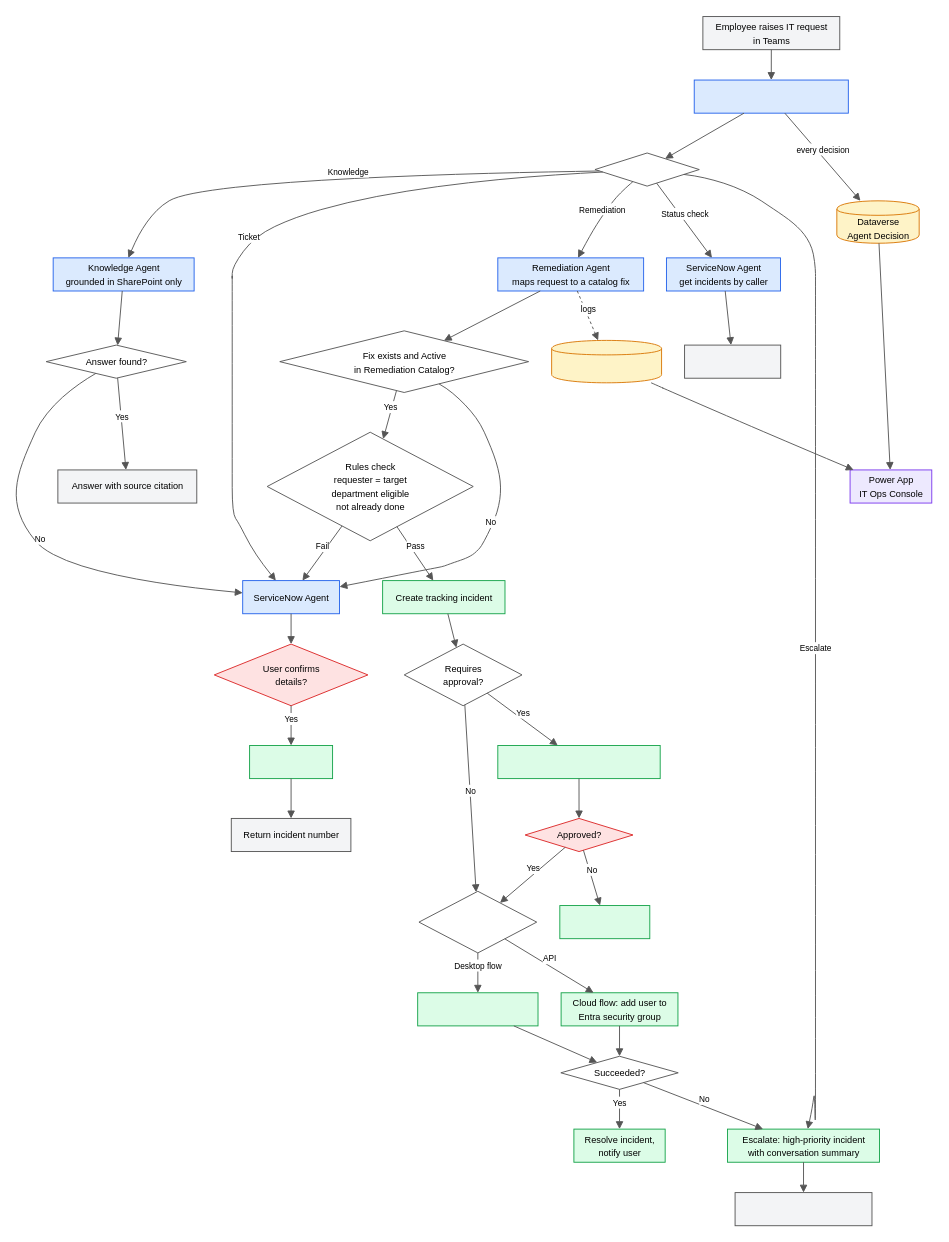
Some shapes in this 949 by 1242 pixel diagram are drawn without their labels. The shapes that lost their labels are listed below. From the top down, each one's centre as x and y in pixels, then its label:
[770,96]: Triage Agent classifies into 1 of 5 categories
[646,169]: Category?
[606,361]: Dataverse Remediation Request
[732,361]: Summarise status
[291,762]: Create incident
[578,762]: Approval to requester's manager (looked up in Entra ID)
[477,921]: Execution channel?
[604,922]: Record rejection, update incident
[477,1009]: Desktop flow: run fix on legacy admin console
[803,1209]: Human IT agent takes over
